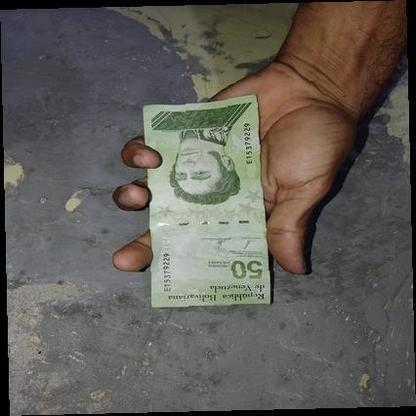fifty-front-vef: (142, 93, 270, 308)
